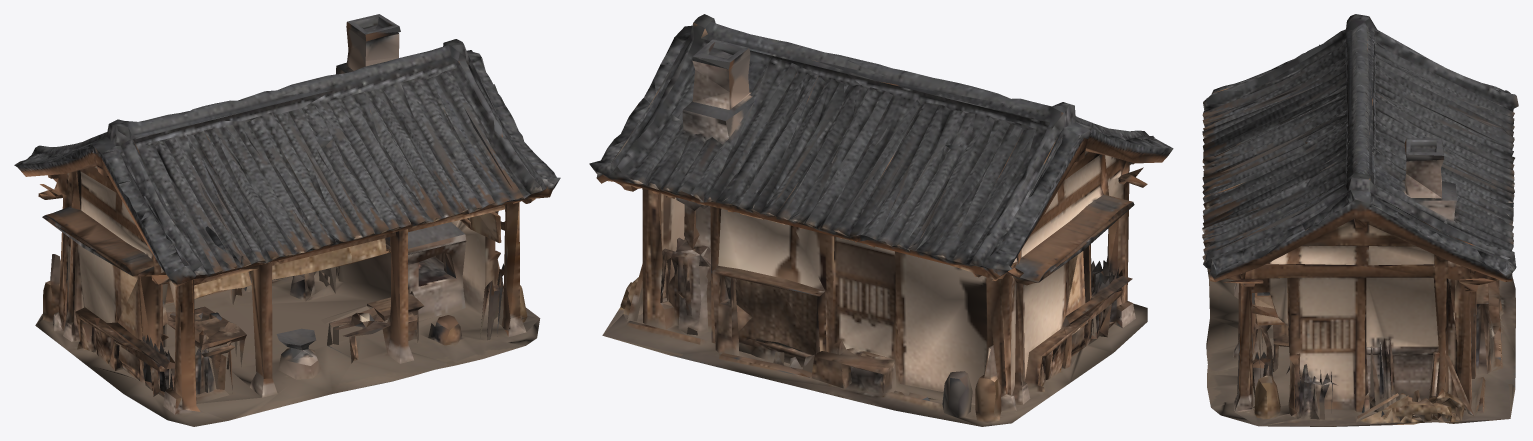
The model's file is 12_Blacksmith_Workshop_LOD2.fbx.
3 views of the same model, side by side, from view 1: azimuth 30°, elevation 25°; view 2: azimuth 150°, elevation 25°; view 3: azimuth 270°, elevation 25° (orthographic). The views are drawn at different scales.
Visible parts, largest first — view 1: 12_Blacksmith_Workshop_L2; view 2: 12_Blacksmith_Workshop_L2; view 3: 12_Blacksmith_Workshop_L2.
Boxes of the visible parts, left/top/right/bottom form: 12_Blacksmith_Workshop_L2: left=14, top=14, right=560, bottom=426; 12_Blacksmith_Workshop_L2: left=589, top=14, right=1173, bottom=426; 12_Blacksmith_Workshop_L2: left=1202, top=14, right=1518, bottom=426.
Bounding box in the file's own units: 9.58 × 5.8 × 6.86.
